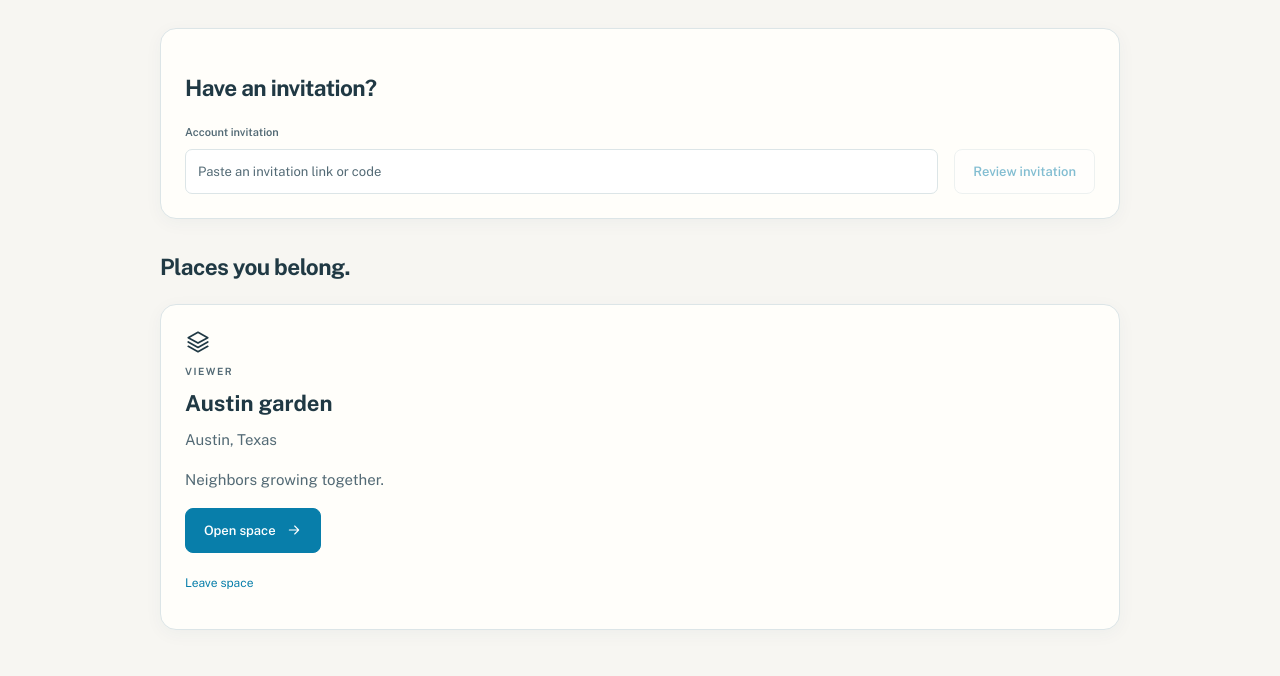
confirms before leaving and reports backend setup failures
(page scrolled)
Click the button "Leave space".
click(219, 583)  # box top-left (185, 561), bottom-right (254, 605)
(page scrolled)
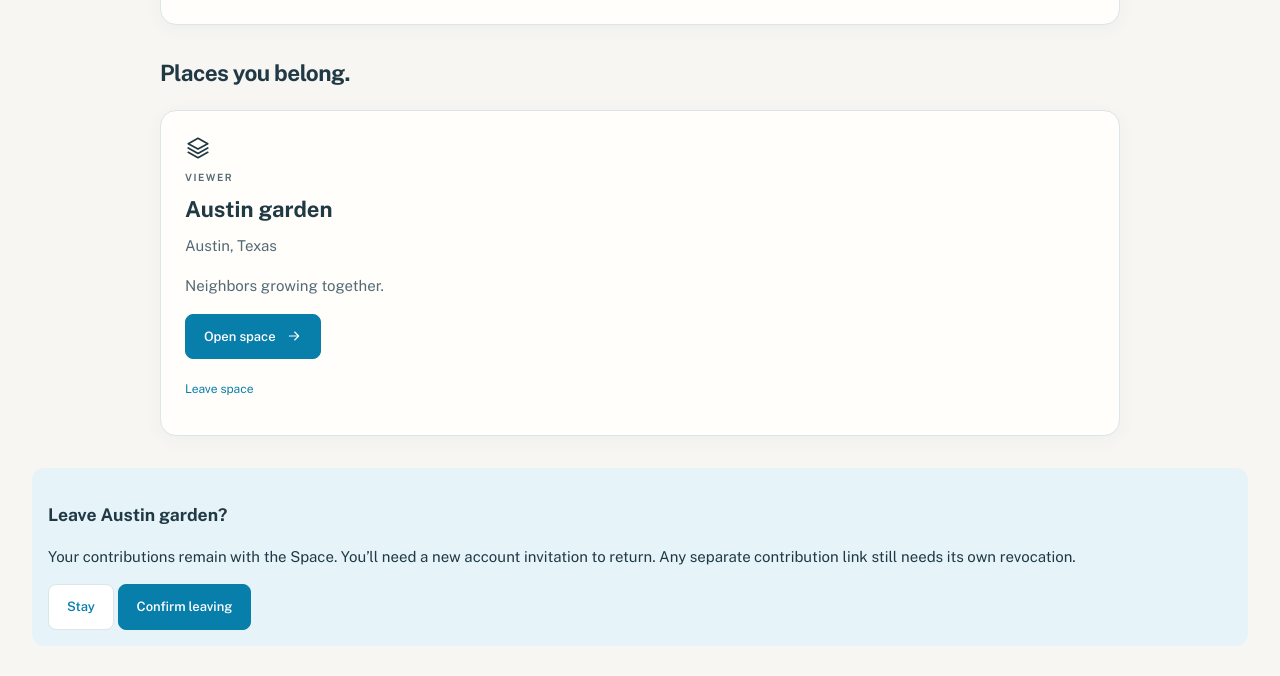
Click the button "Confirm leaving".
click(185, 607)  # box top-left (118, 584), bottom-right (252, 630)
(page scrolled)
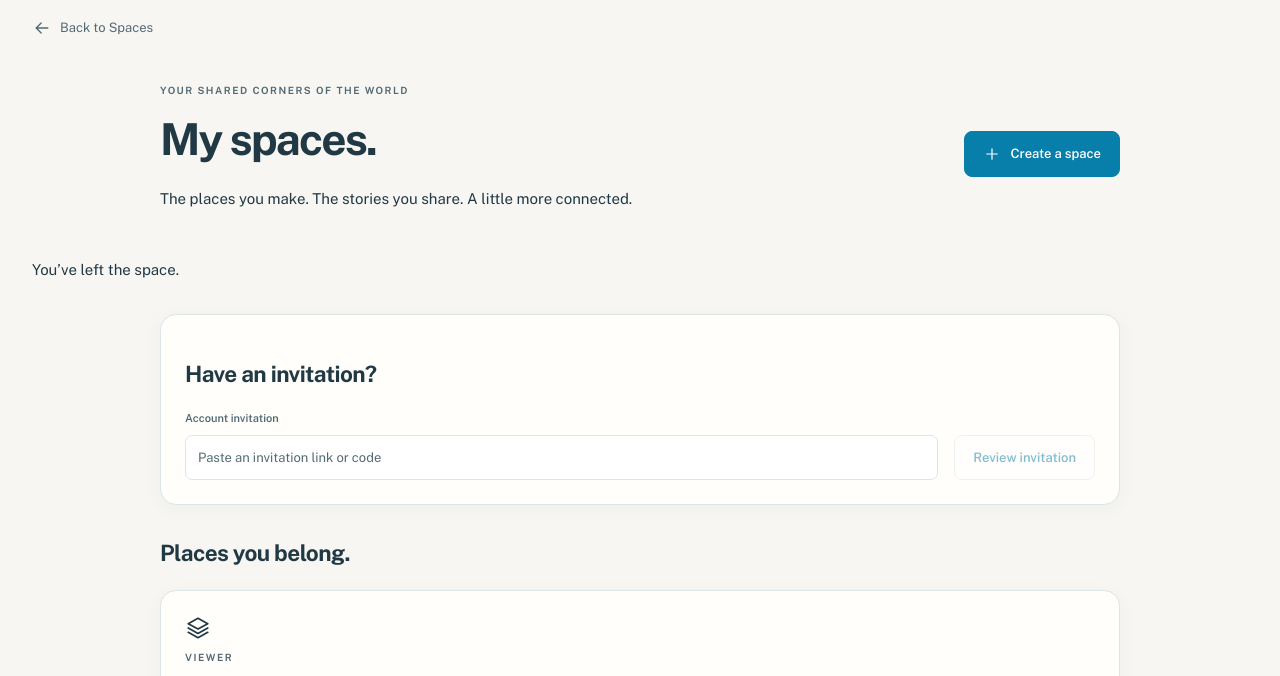
Check: the text "You’ve left the space." is shown, box top-left (32, 261), bottom-right (179, 278)
